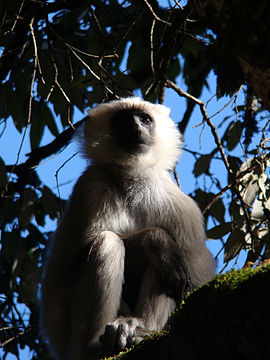monkey: (41, 92, 218, 353)
